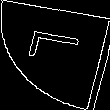L_E: (22, 35, 88, 75)
